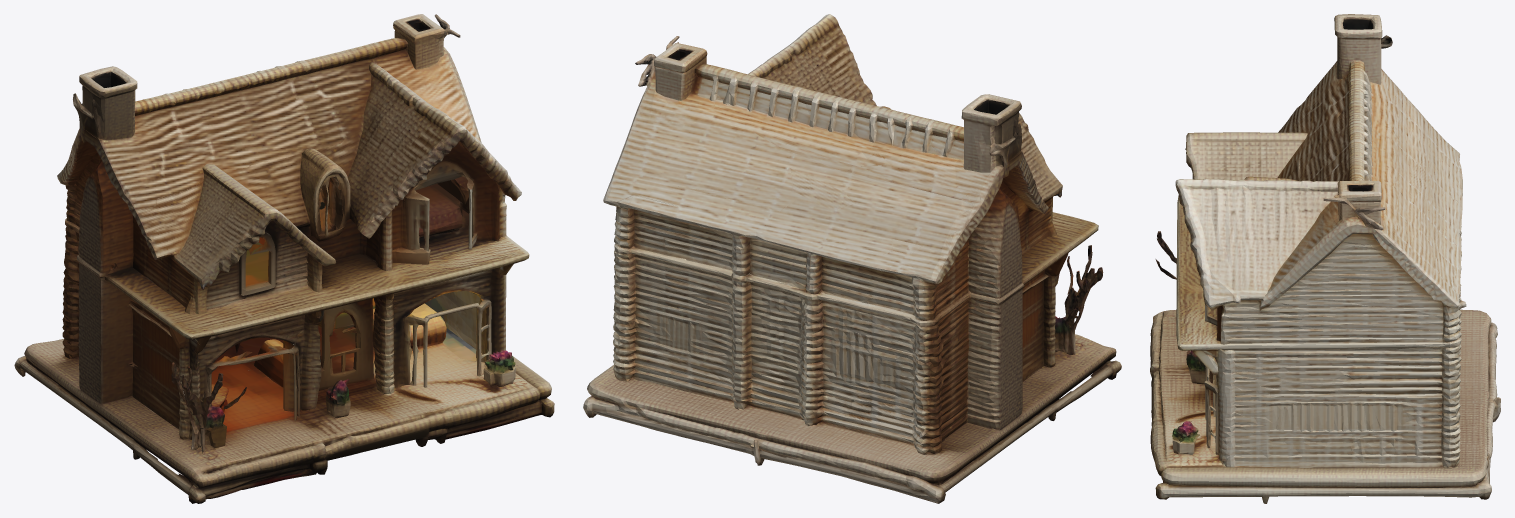
File: woven-seagrass-dollhouse-3d.jpeg.glb
3 renders of one model, left to right at view 1: azimuth 30°, elevation 25°; view 2: azimuth 150°, elevation 25°; view 3: azimuth 270°, elevation 25°, orthographic. The views are drawn at different scales.
Parts seen in each view (by area): view 1: world; view 2: world; view 3: world.
Part boxes in pixels (left/top/right/bottom): world: left=14, top=14, right=554, bottom=503; world: left=583, top=14, right=1121, bottom=503; world: left=1150, top=14, right=1500, bottom=503.
Bounding box in the file's own units: 1 × 0.9174 × 0.8856.
1 material, 1 textured.
